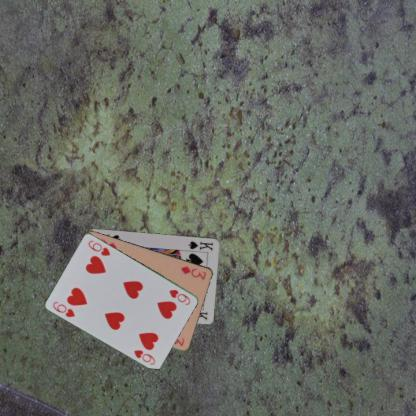3d: (178, 263, 208, 281)
6h: (166, 287, 192, 306), (51, 299, 76, 318)
Ks: (186, 239, 214, 251)
